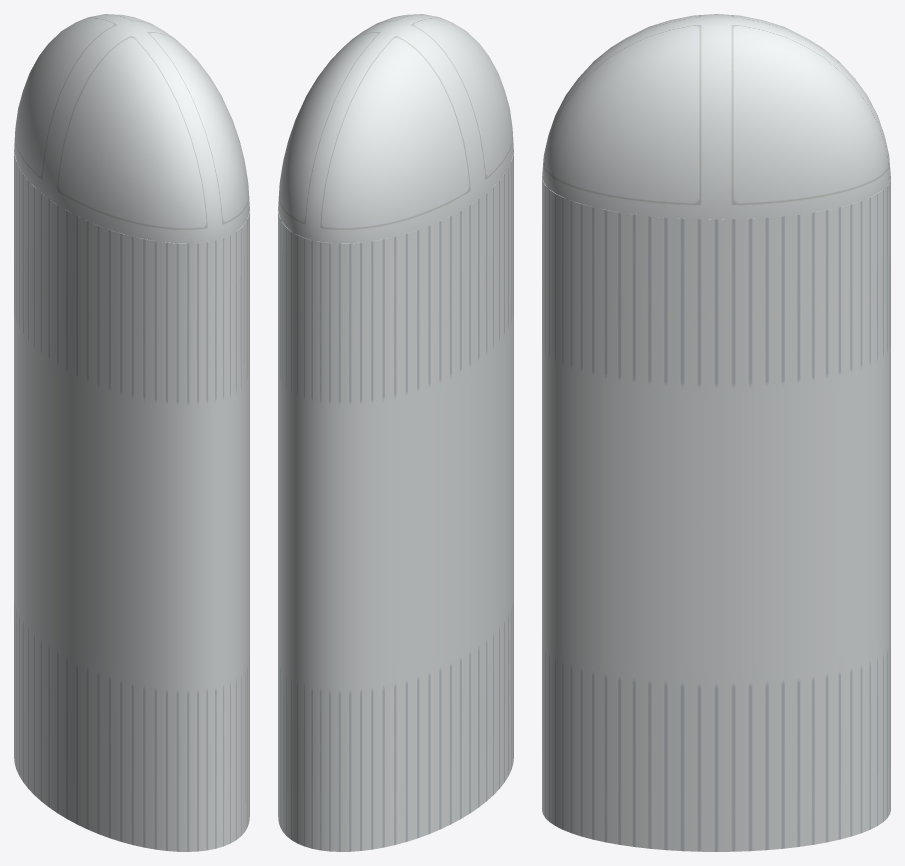
The model's file is joint.fbx.
The picture shows the model from 3 angles, left to right: view 1: azimuth 30°, elevation 25°; view 2: azimuth 150°, elevation 25°; view 3: azimuth 270°, elevation 25°; orthographic projection. The views are drawn at different scales.
Parts seen in each view (by area): view 1: Cylinder, Joint; view 2: Cylinder, Joint; view 3: Cylinder, Joint.
Boxes of the visible parts, <box> form: Cylinder: <box>14,151,249,851</box>; Joint: <box>14,14,249,244</box>; Cylinder: <box>278,151,513,851</box>; Joint: <box>278,14,513,244</box>; Cylinder: <box>542,178,890,851</box>; Joint: <box>542,14,890,221</box>.
Size of the model in its own units: 0.114 by 0.2 by 0.5.
